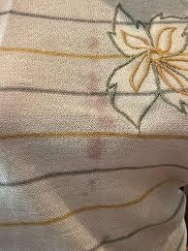wine: (85, 100, 118, 132), (80, 61, 108, 90), (85, 138, 110, 162), (82, 174, 105, 197), (86, 34, 107, 56)
